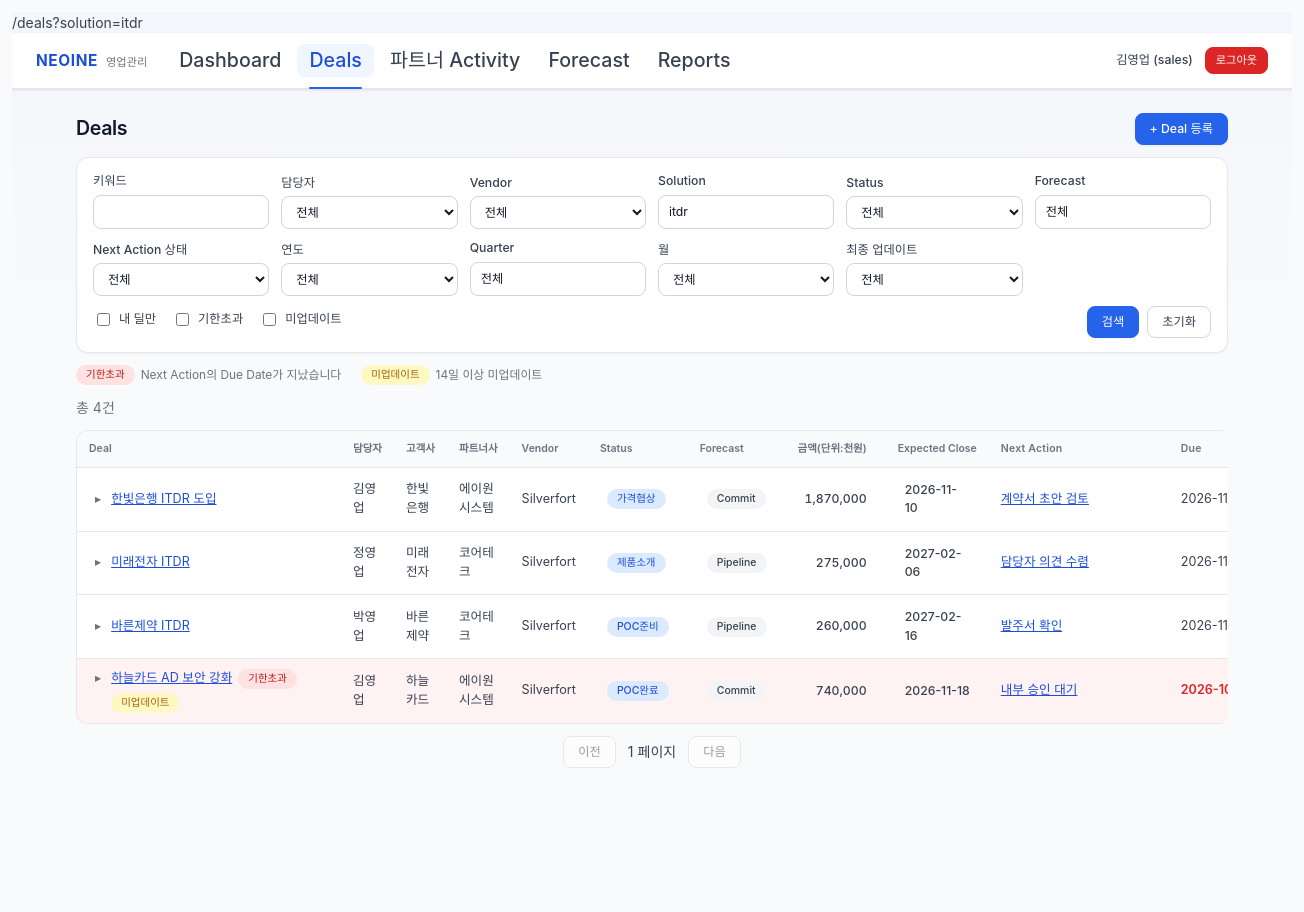
Test: 필터와 정렬 (T-LIST-05~09) › removes solution from the URL when it is emptied and searched
Expected: the row "미래전자 ITDR" is shown, [77, 532, 1228, 595]
Clear the field labelled "Solution". click: (746, 212)
box: [658, 195, 834, 229]
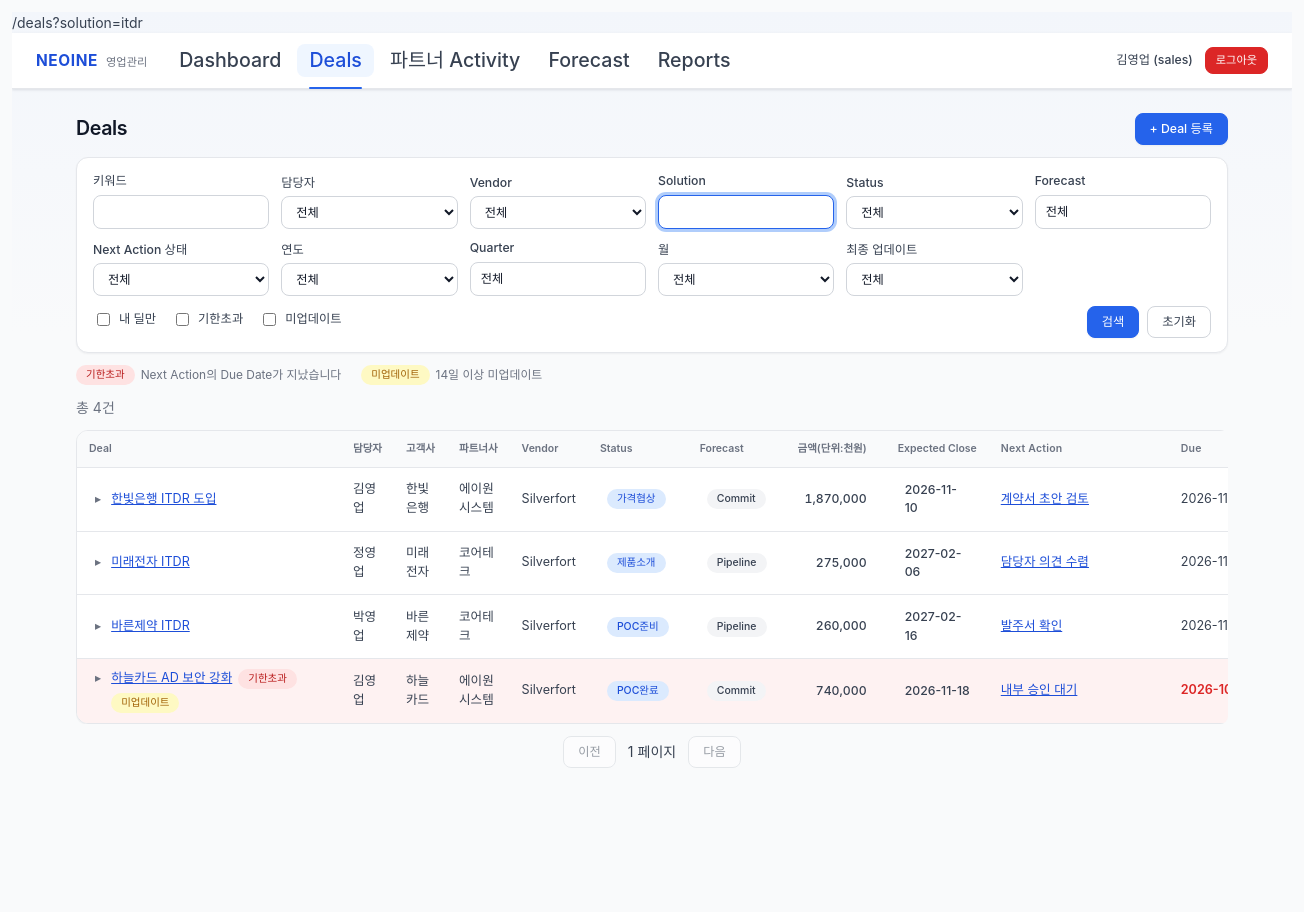
Click the button "검색". click: (1113, 322)
box: [1087, 306, 1139, 338]
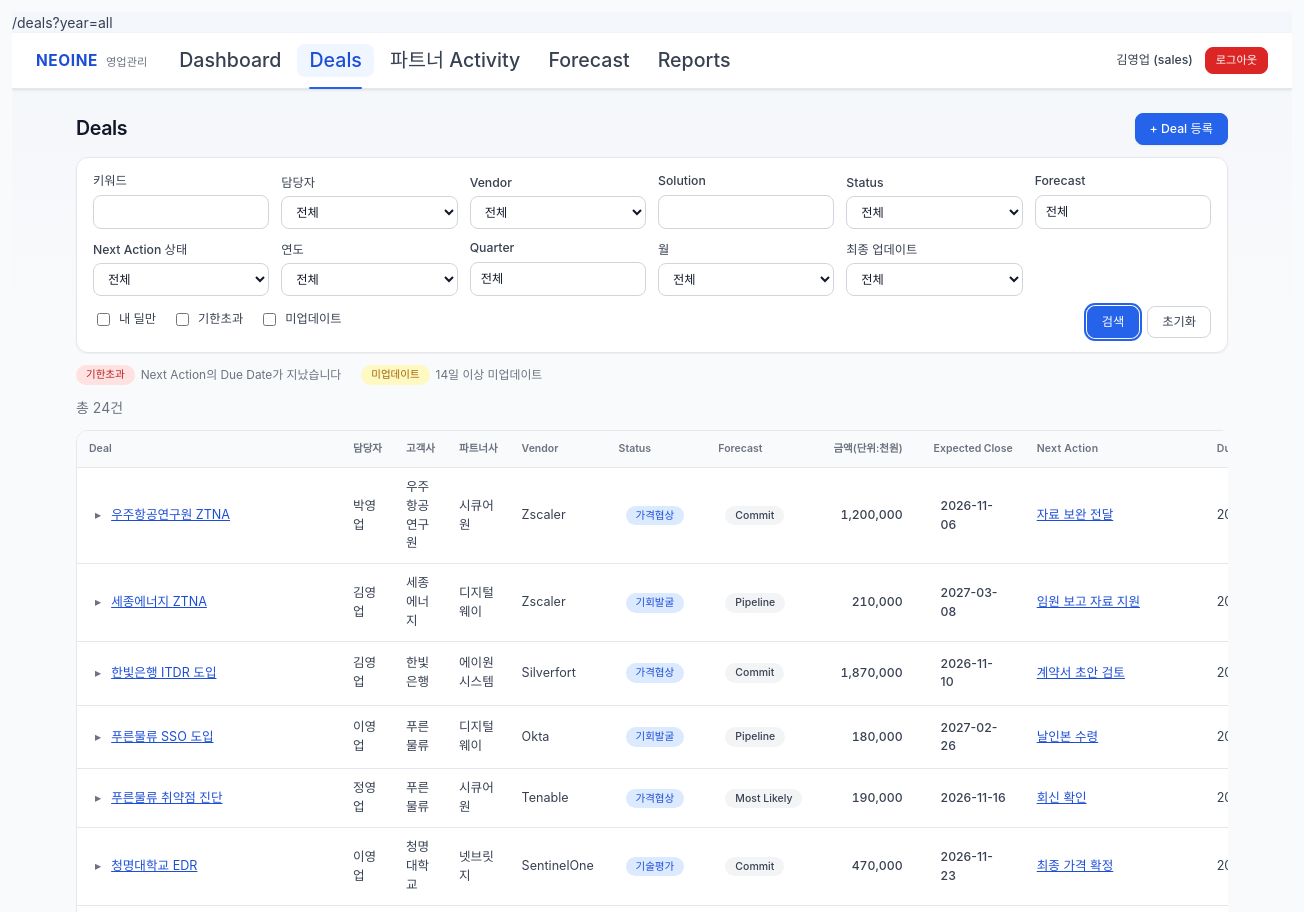
Now the element with test id "location" no longer shows "solution"
